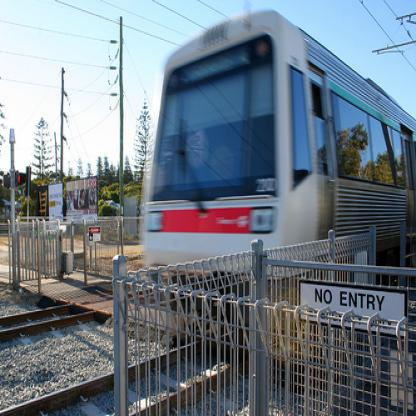train: (140, 9, 415, 327)
